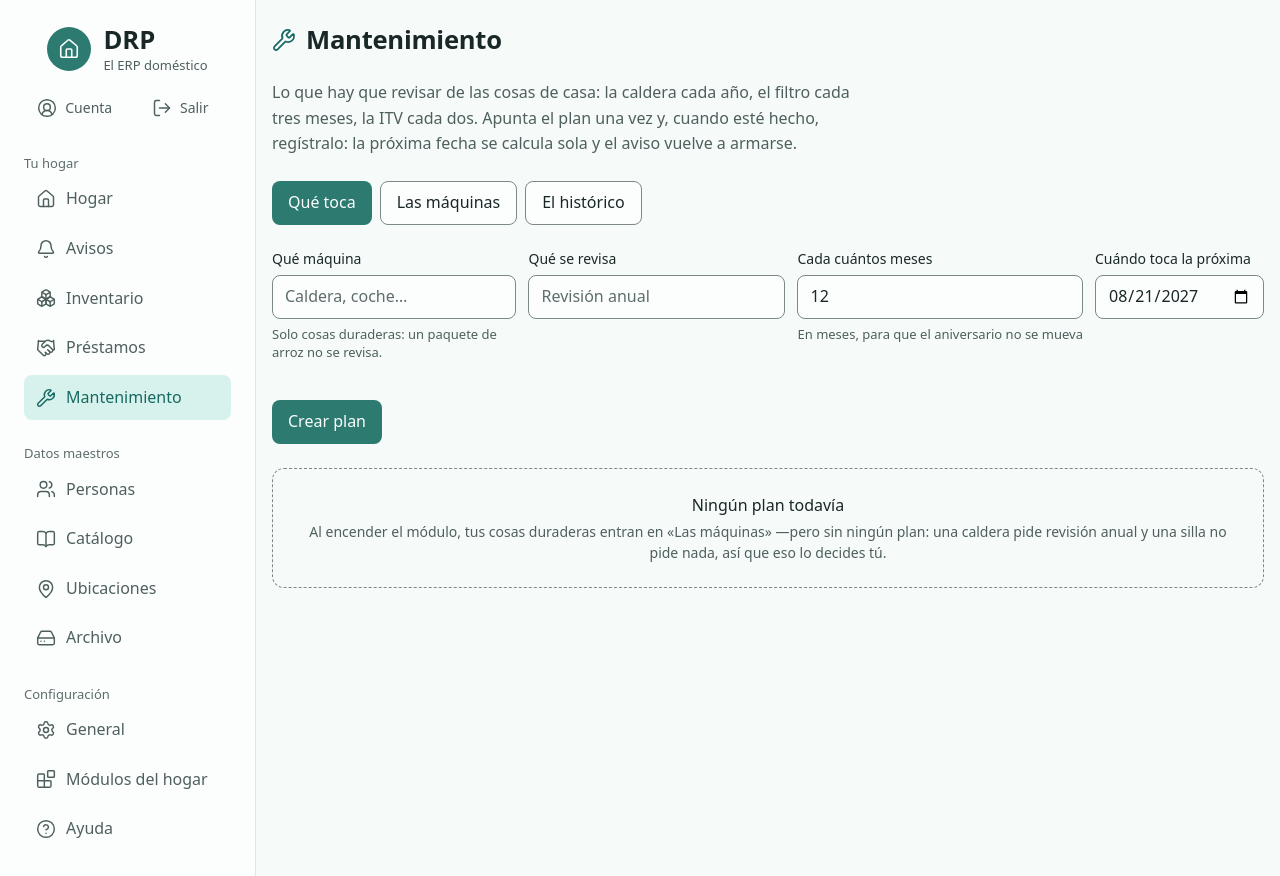
it: el histórico › una correctiva se distingue de una preventiva con etiqueta
The width and height of the screenshot is (1280, 876).
Expected: the heading "Mantenimiento" is shown, [306,24,502,56]
Click the tab "El histórico" at (583, 203), box [525,181,642,225]
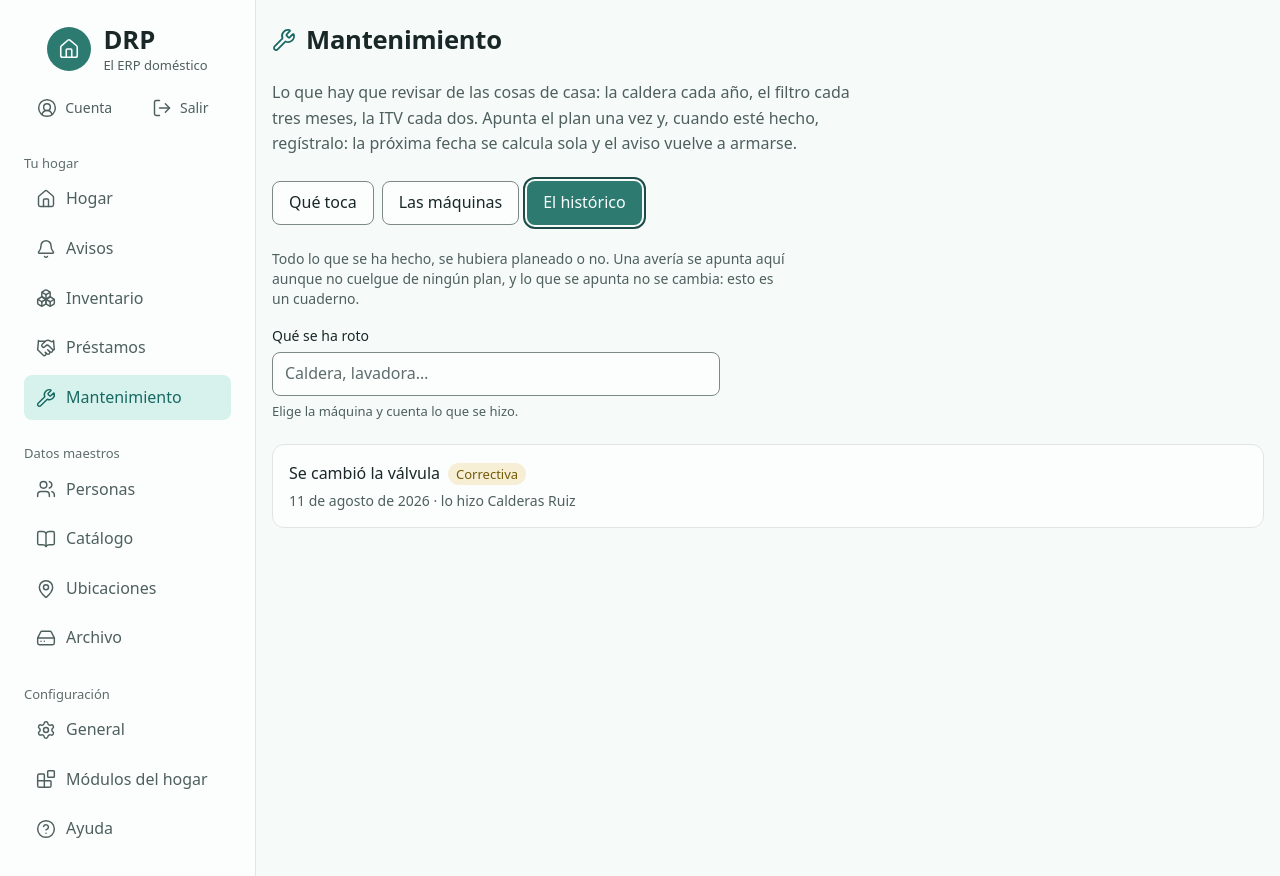
Result: the text "Se cambió la válvula" is shown at [289,461,440,487]
Result: the text "Correctiva" is shown at [448,463,526,485]
Result: the text "lo hizo Calderas Ruiz" is shown at [430,491,576,510]
